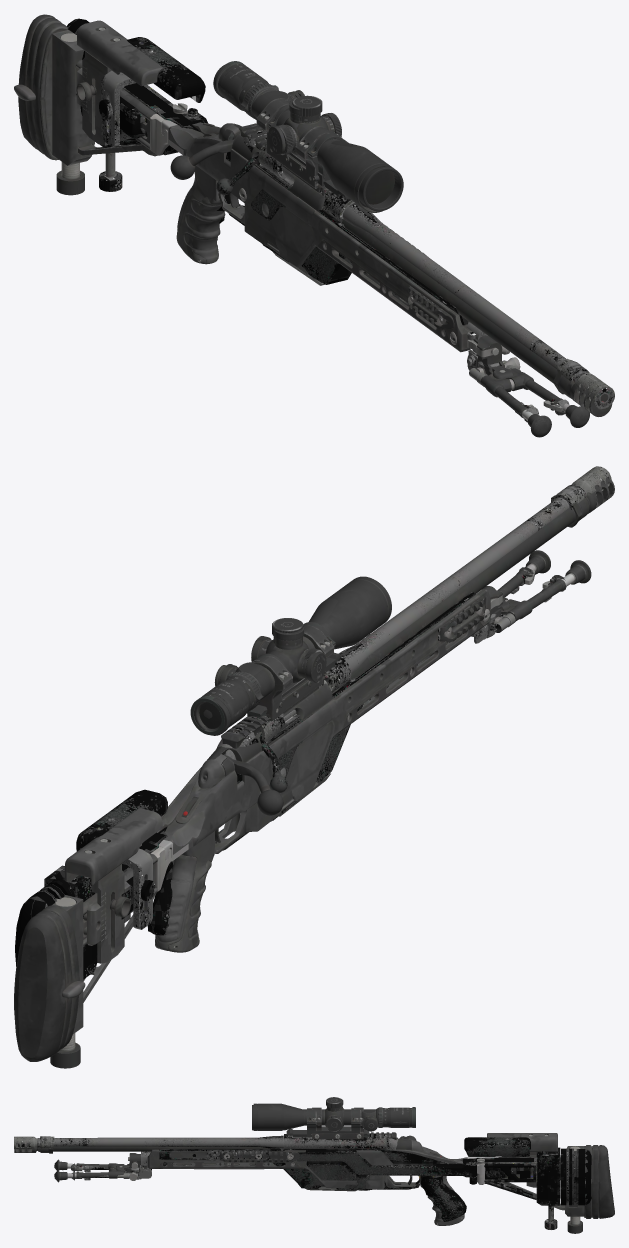
The picture shows the model from 3 angles, top to bottom: view 1: azimuth 30°, elevation 25°; view 2: azimuth 150°, elevation 25°; view 3: azimuth 270°, elevation 25°; orthographic projection. The views are drawn at different scales.
Parts seen in each view (by area): view 1: weapons\models\ssg08\weapon_snip_ssg08.vmdl_c.body_hd, weapons\models\ssg08\weapon_snip_ssg08.vmdl_c.body_legacy; view 2: weapons\models\ssg08\weapon_snip_ssg08.vmdl_c.body_hd, weapons\models\ssg08\weapon_snip_ssg08.vmdl_c.body_legacy; view 3: weapons\models\ssg08\weapon_snip_ssg08.vmdl_c.body_legacy, weapons\models\ssg08\weapon_snip_ssg08.vmdl_c.body_hd.
Boxes of the visible parts, x1,y1,x2,y2 form: weapons\models\ssg08\weapon_snip_ssg08.vmdl_c.body_hd: (14, 14, 612, 437); weapons\models\ssg08\weapon_snip_ssg08.vmdl_c.body_legacy: (67, 18, 614, 422); weapons\models\ssg08\weapon_snip_ssg08.vmdl_c.body_hd: (14, 477, 614, 1068); weapons\models\ssg08\weapon_snip_ssg08.vmdl_c.body_legacy: (15, 466, 611, 979); weapons\models\ssg08\weapon_snip_ssg08.vmdl_c.body_legacy: (14, 1097, 591, 1229); weapons\models\ssg08\weapon_snip_ssg08.vmdl_c.body_hd: (14, 1099, 614, 1233).
Bounding box in the file's own units: 0.1274 × 0.3204 × 1.3.
Materials: 4 (3 with a texture image).
